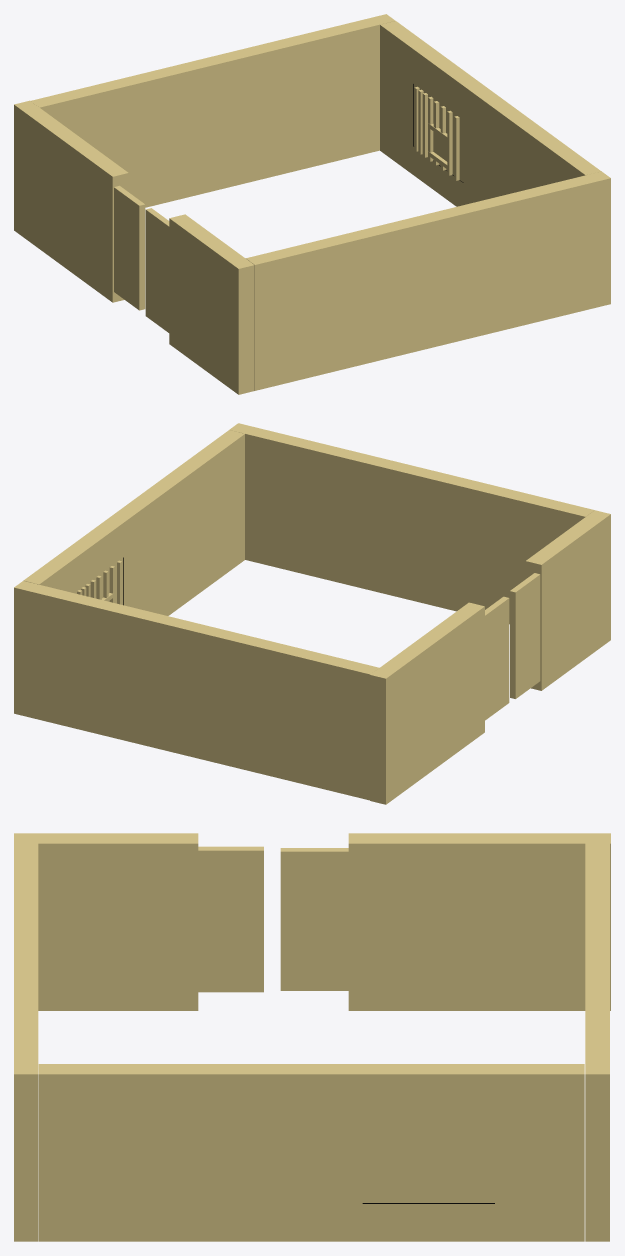
Rendered from CENARIOCOOCKED.fbx.
3 views of the same model, one above another, from view 1: azimuth 30°, elevation 25°; view 2: azimuth 150°, elevation 25°; view 3: azimuth 270°, elevation 25° (orthographic). The views are drawn at different scales.
Parts seen in each view (by area): view 1: paredes; view 2: paredes; view 3: paredes.
Boxes of the visible parts, x1,y1,x2,y2 form: paredes: (14, 14, 610, 394); paredes: (14, 423, 610, 804); paredes: (14, 833, 610, 1241).
Size of the model in its own units: 3103 by 1000 by 3234.
